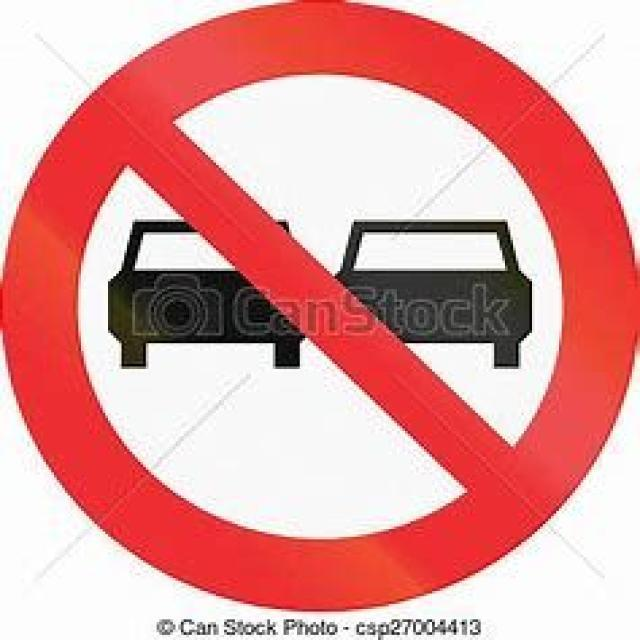overtaking prohibited: (16, 20, 623, 597)
